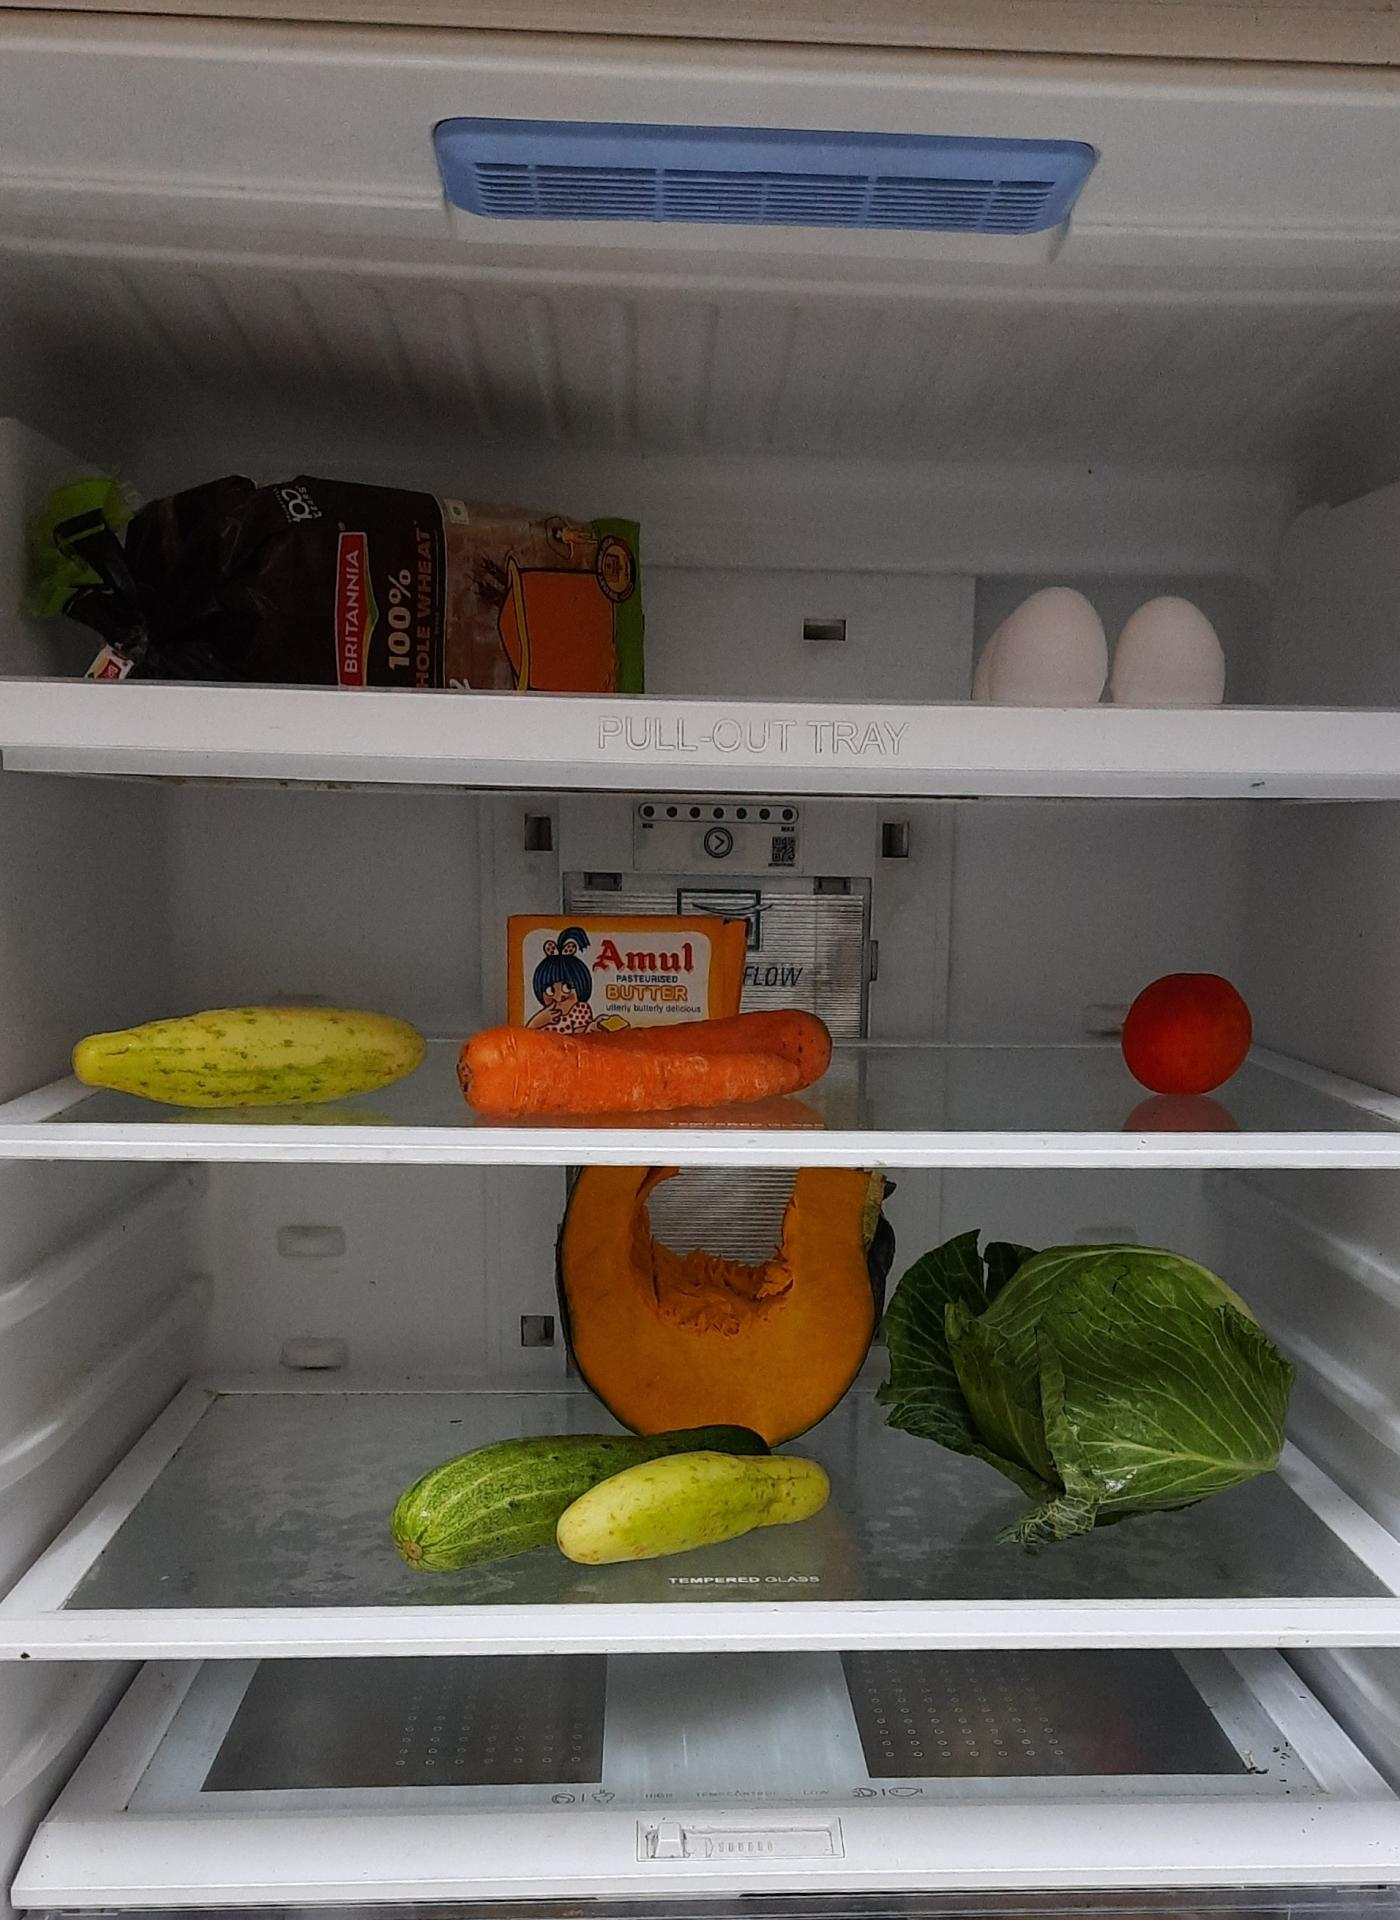bread: (64, 470, 649, 690)
butter: (510, 921, 759, 1038)
cabbage: (886, 1219, 1297, 1538)
carrots: (461, 1011, 841, 1115)
cucumber: (383, 1436, 658, 1574), (75, 1006, 428, 1114), (558, 1449, 833, 1564)
egg: (975, 586, 1235, 711)
pumpkin: (556, 1170, 896, 1446)
tomato: (1117, 972, 1252, 1100)
